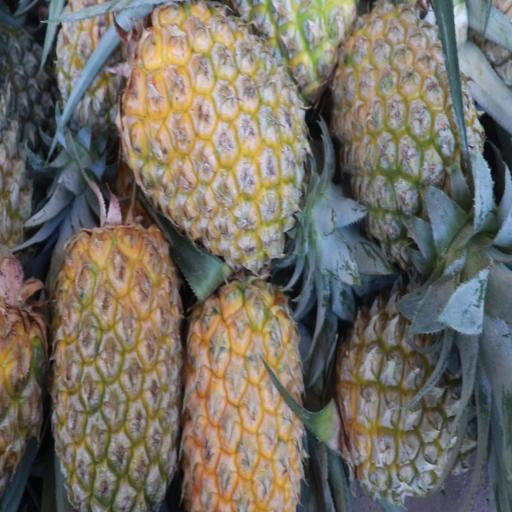------------------------------: (336, 11, 477, 249), (342, 286, 476, 496), (54, 0, 139, 139)
Pineapple - v8 v1: (126, 0, 306, 261), (52, 231, 178, 508), (182, 282, 301, 512), (238, 0, 352, 98)
